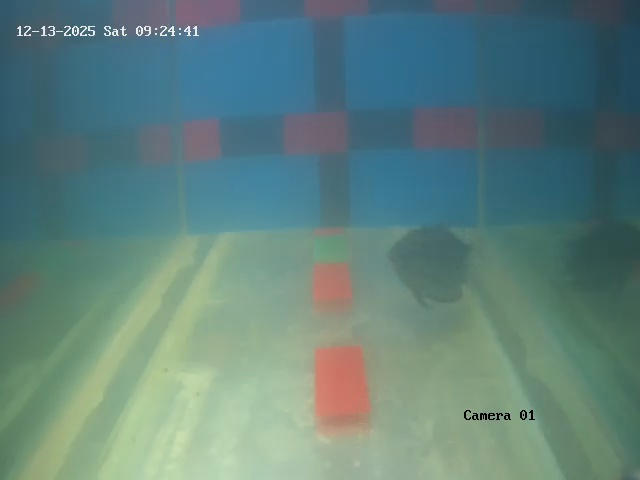fish: (394, 223, 467, 298)
